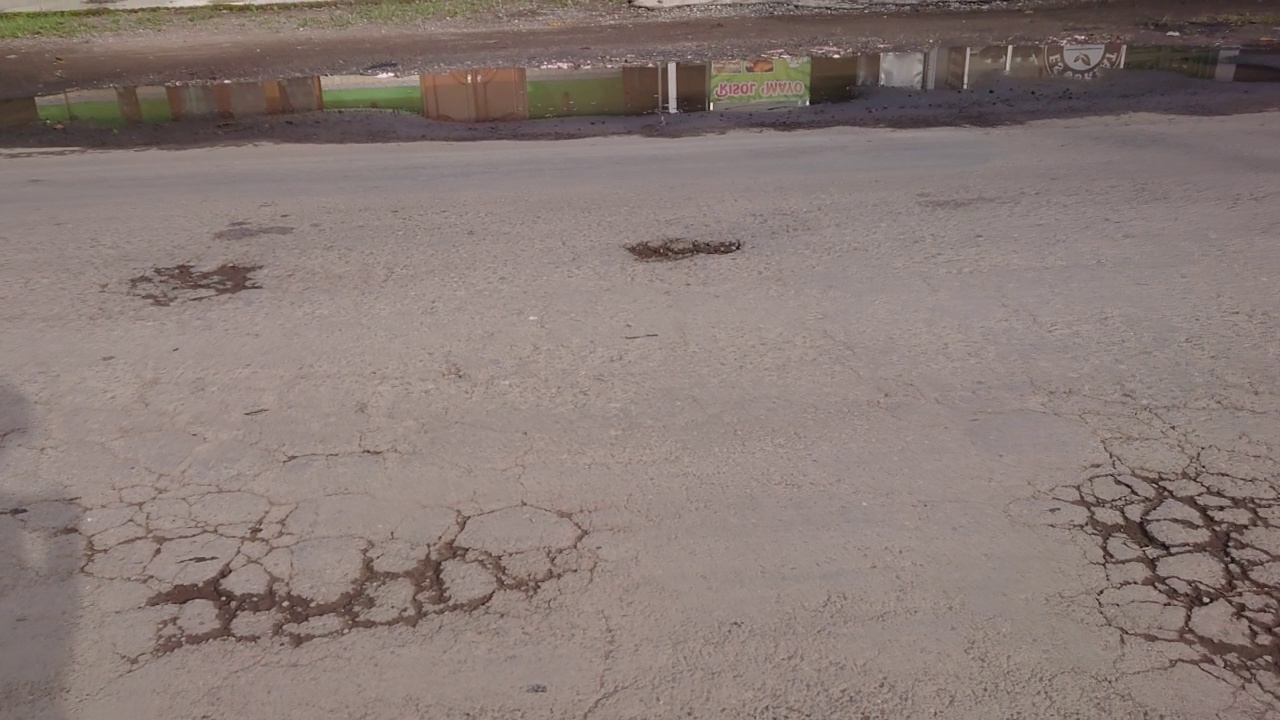Retak: (125, 512, 593, 640), (1059, 462, 1280, 720), (129, 265, 249, 308), (627, 238, 725, 254)
